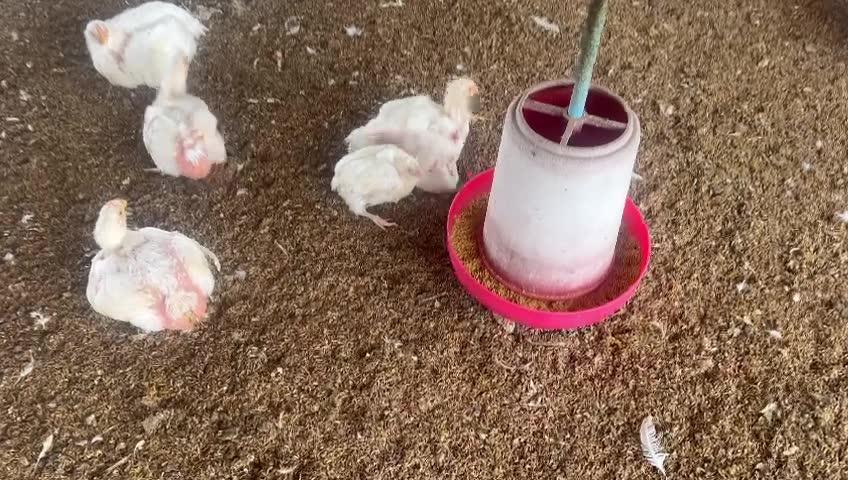AbNormal: (85, 199, 213, 332), (360, 79, 482, 147), (333, 143, 422, 227)
Normal: (148, 48, 229, 181), (82, 6, 203, 88)
